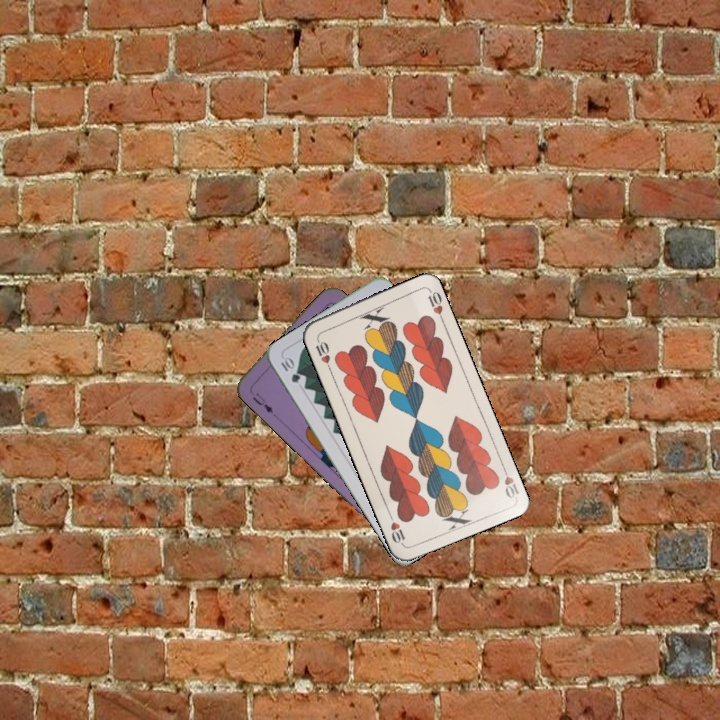EU: (248, 388, 276, 416)
G10: (277, 353, 303, 385)
H10: (498, 461, 522, 501), (311, 333, 333, 372)
